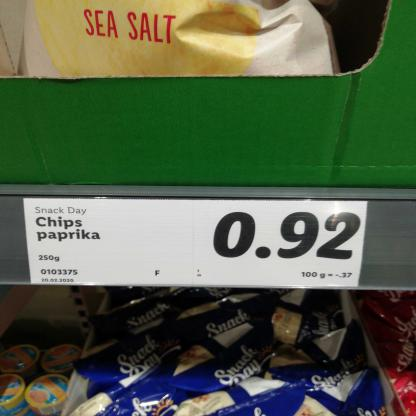prtg: (24, 199, 368, 288)
